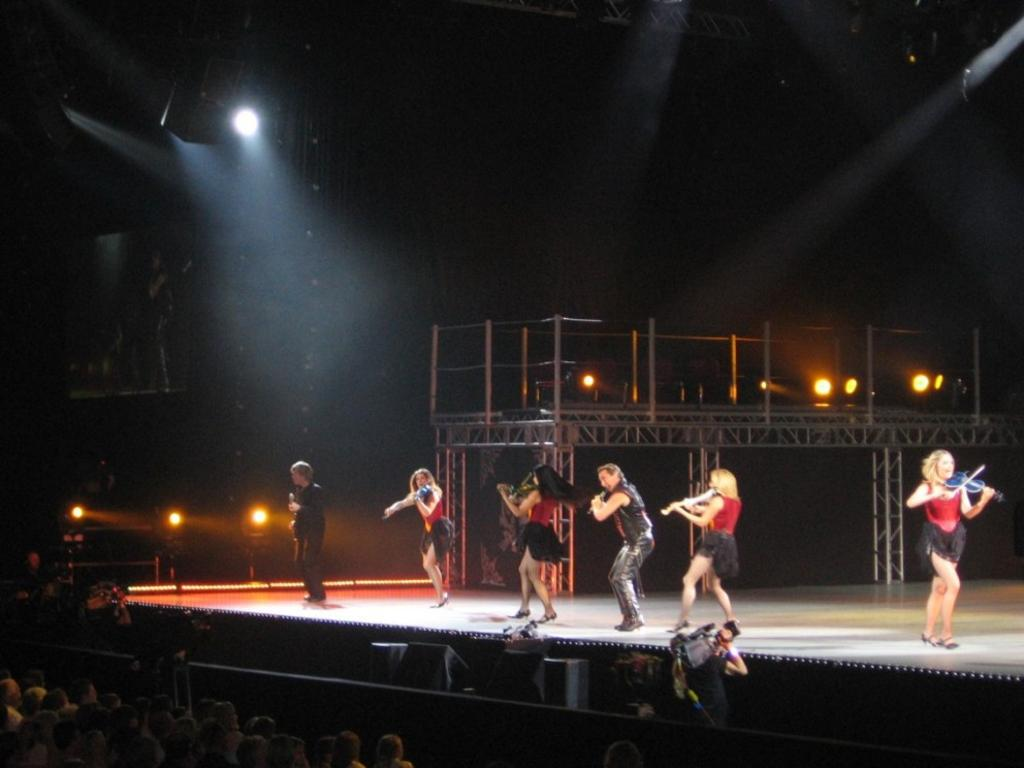face: (938, 455, 955, 478), (714, 629, 732, 650), (599, 472, 614, 492), (709, 478, 719, 497), (29, 555, 41, 569), (416, 475, 427, 489), (292, 471, 302, 485), (129, 717, 138, 732), (89, 687, 97, 703), (534, 473, 540, 487)
